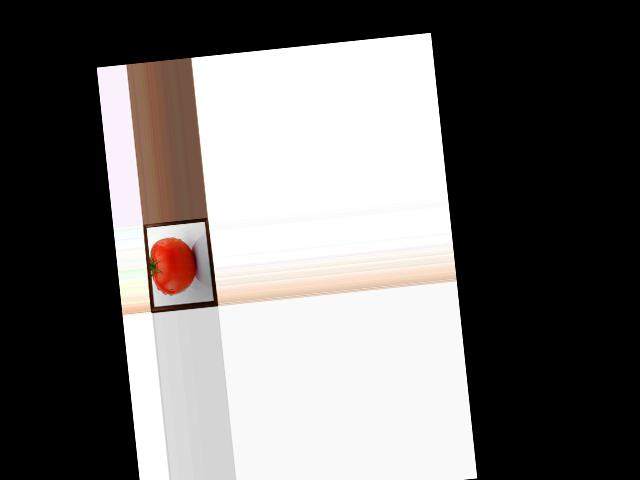tomato: (147, 235, 199, 297)
